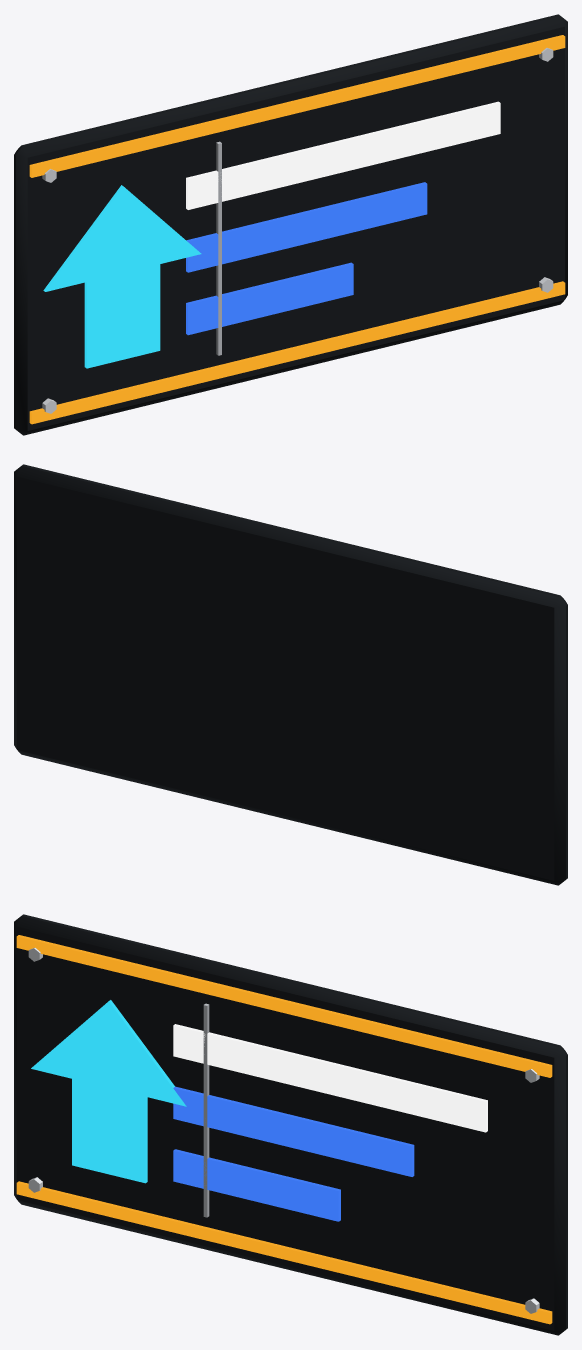
File: arch_stair_sign.glb
3 views of the same model, one above another, from view 1: azimuth 30°, elevation 25°; view 2: azimuth 150°, elevation 25°; view 3: azimuth 330°, elevation 25° (orthographic).
Visible parts, largest first — view 1: arch_stair_sign; view 2: arch_stair_sign; view 3: arch_stair_sign.
Boxes of the visible parts, x1,y1,x2,y2 form: arch_stair_sign: (14, 14, 567, 435); arch_stair_sign: (14, 464, 567, 885); arch_stair_sign: (14, 914, 567, 1335).
Bounding box in the file's own units: 0.6 × 0.3 × 0.026.
